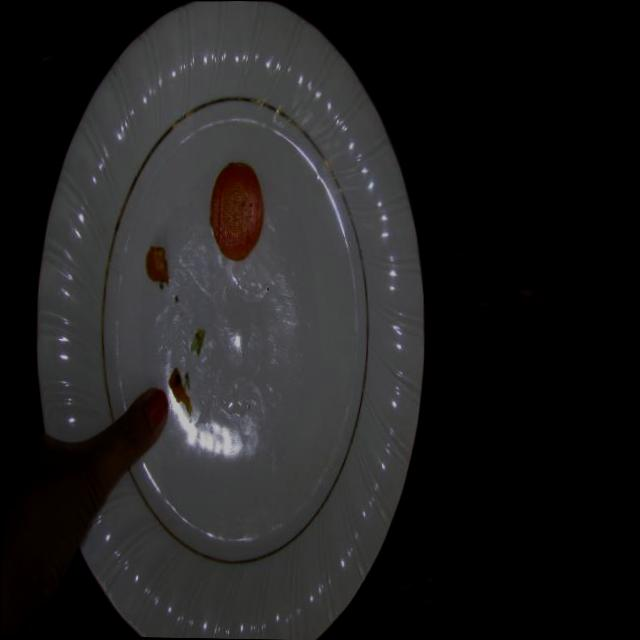Carrot: (203, 156, 269, 271)
Finger: (106, 378, 174, 473)
